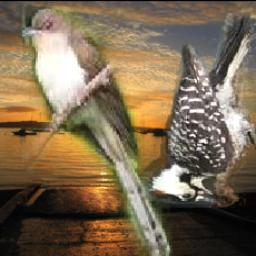Cuckoo: (23, 7, 174, 256)
Woodpecker: (131, 14, 256, 209)
